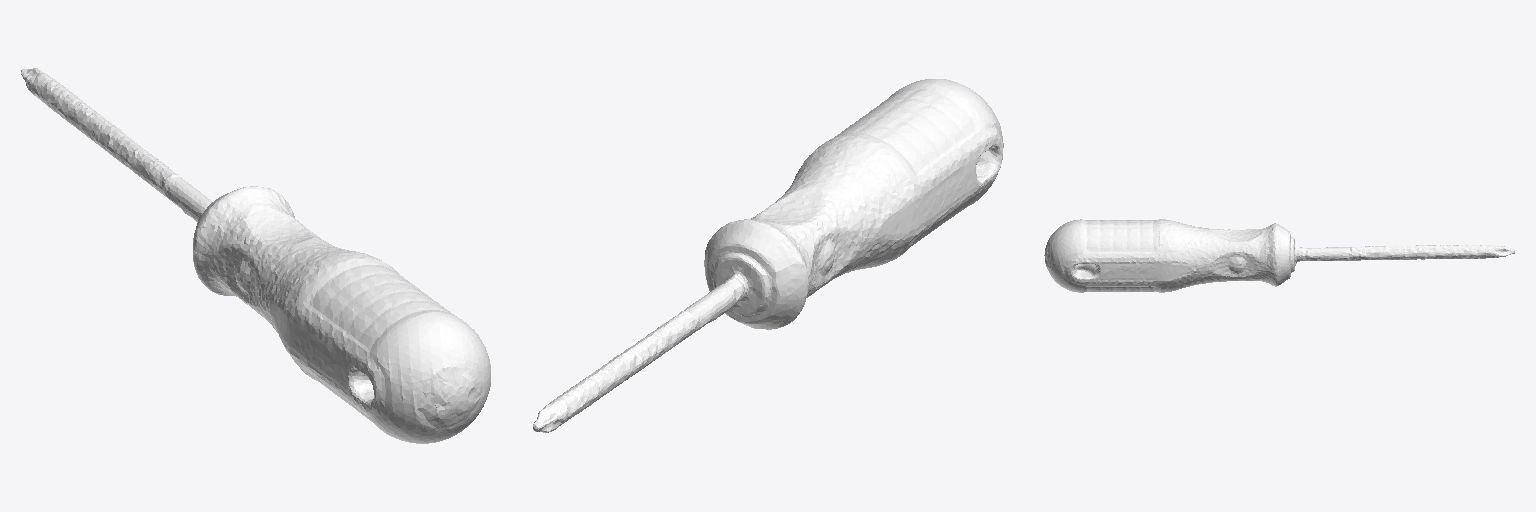
robot.urdf — phillips_screwdriver:
<robot name="phillips_screwdriver">
    <link name="base_link">
        <visual>
            <origin xyz="-0.0 -0.0 0.0" rpy="0.0 0.0 0.0" />
            <geometry>
                <mesh filename="phillips_screwdriver/textured.obj" scale="1 1 1" />
            </geometry>
            <material name="texture">
                <color rgba="1.0 1.0 1.0 1.0" />
            </material>
        </visual>
        <collision>
            <origin xyz="-0.0 -0.0 0.0" rpy="0.0 0.0 0.0" />
            <geometry>
                <mesh filename="phillips_screwdriver/textured_coacd_0.stl" scale="1 1 1" />
            </geometry>
        </collision>
        <collision>
            <origin xyz="-0.0 -0.0 0.0" rpy="0.0 0.0 0.0" />
            <geometry>
                <mesh filename="phillips_screwdriver/textured_coacd_1.stl" scale="1 1 1" />
            </geometry>
        </collision>
        <inertial>
            <mass value="0.097" />
            <inertia ixx="1e-3" ixy="0.0" ixz="0.0" iyy="1e-3" iyz="0.0" izz="1e-3" />
        </inertial>
    </link>
</robot>

--- Facts derived from the render (not from the file) ---
Views: 3 orthographic renders of the robot side by side, from view 1: azimuth 30°, elevation 25°; view 2: azimuth 150°, elevation 25°; view 3: azimuth 270°, elevation 25°.
Model phillips_screwdriver with 1 links and 0 joints (none), rooted at base_link, posed all joints at 0.
Links seen in each view (by area): view 1: base_link; view 2: base_link; view 3: base_link.
Boxes of the visible links, x1,y1,x2,y2 form: base_link: (21, 68, 490, 443); base_link: (533, 79, 1003, 432); base_link: (1044, 219, 1514, 292).
Size in the robot's own frame: 0.0335 by 0.2162 by 0.0341 metres.
1 mesh visuals loaded from 1 distinct referenced files (1 OBJ).